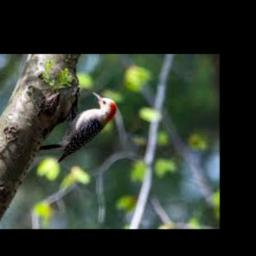Woodpecker: (38, 90, 116, 162)
